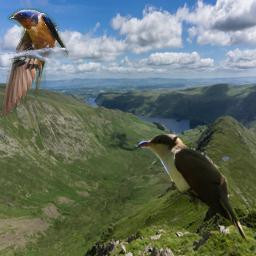Cuckoo: (135, 134, 246, 245)
Swallow: (0, 8, 69, 118)
